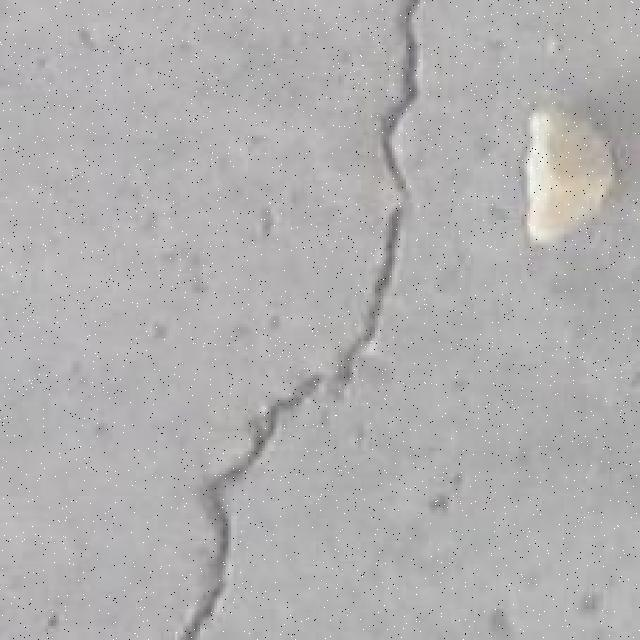Crack: (172, 0, 425, 637)
